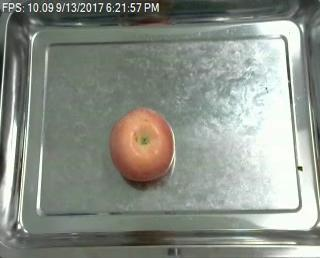apple: (110, 108, 175, 183)
